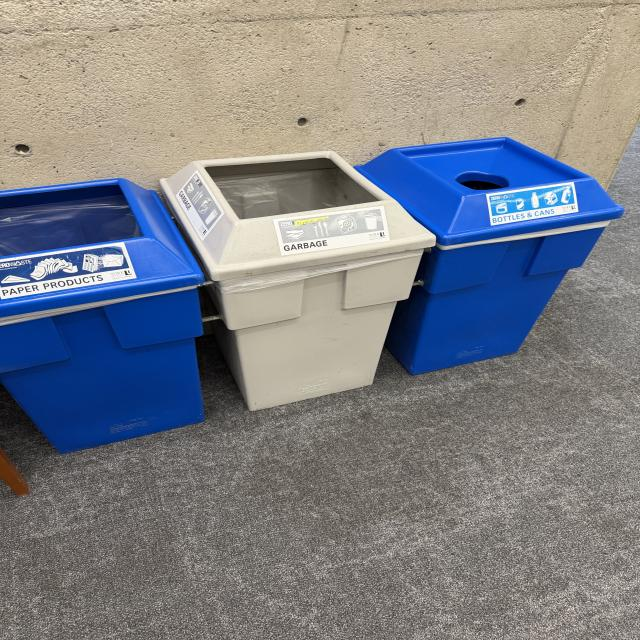Dustbin: (0, 134, 626, 453)
